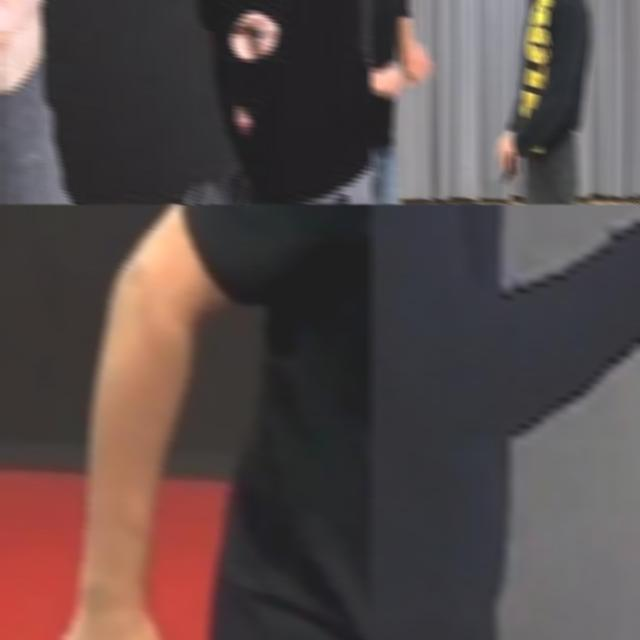Knife_Handle: (0, 0, 76, 204), (496, 130, 521, 186)
